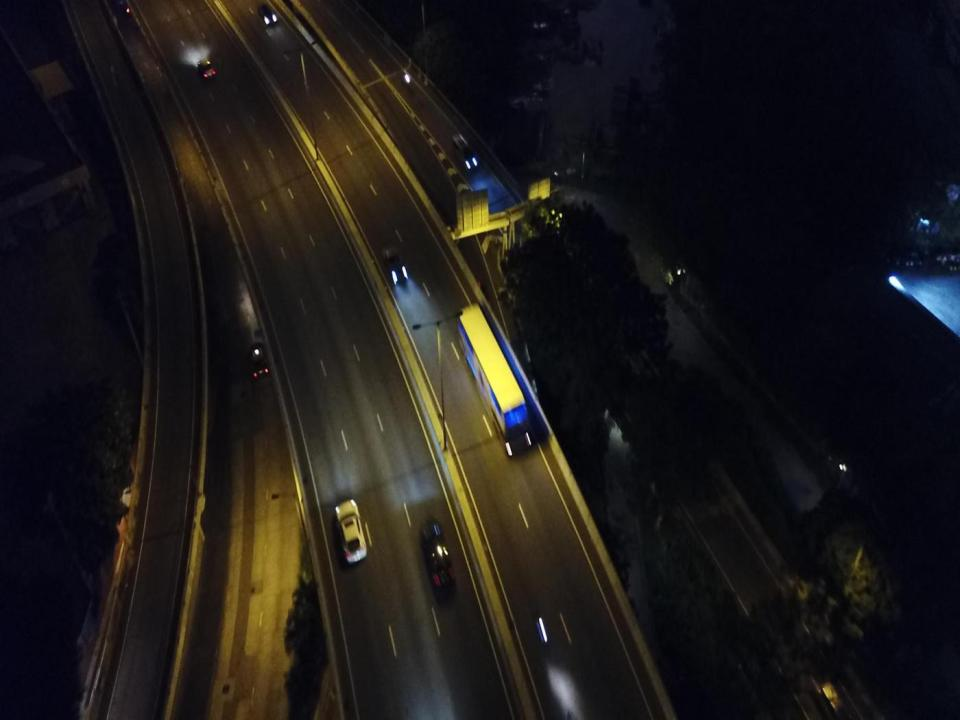bus: (458, 305, 536, 453)
car: (420, 519, 454, 593), (336, 500, 368, 566), (383, 248, 408, 286), (250, 344, 270, 376), (258, 0, 275, 27), (196, 58, 214, 80)
van: (450, 131, 478, 171)
